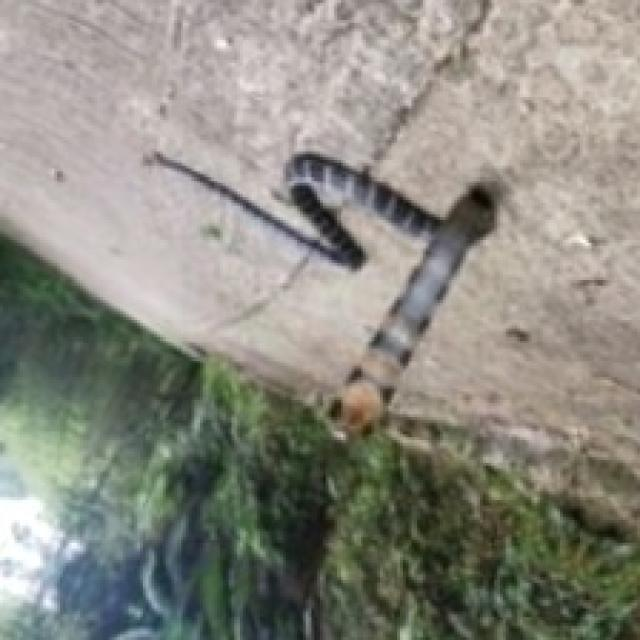king cobra: (154, 151, 500, 431)
